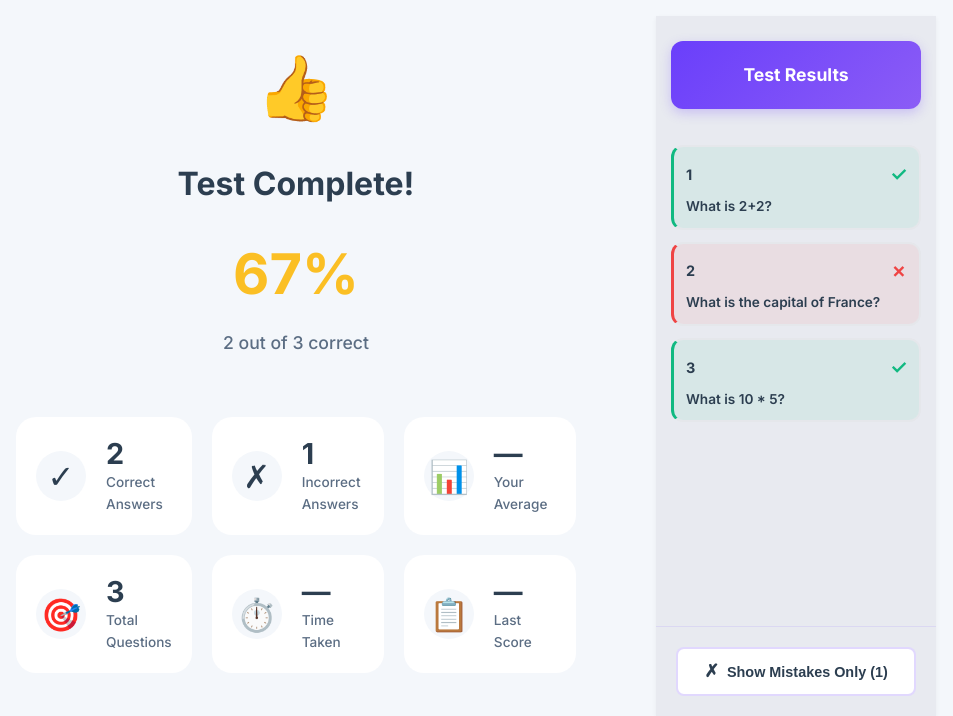
TestResultsPage › shows correct answer for incorrect responses
Click the element with class "timeline-card--incorrect".
click(796, 284)  # box [671,242,921,326]
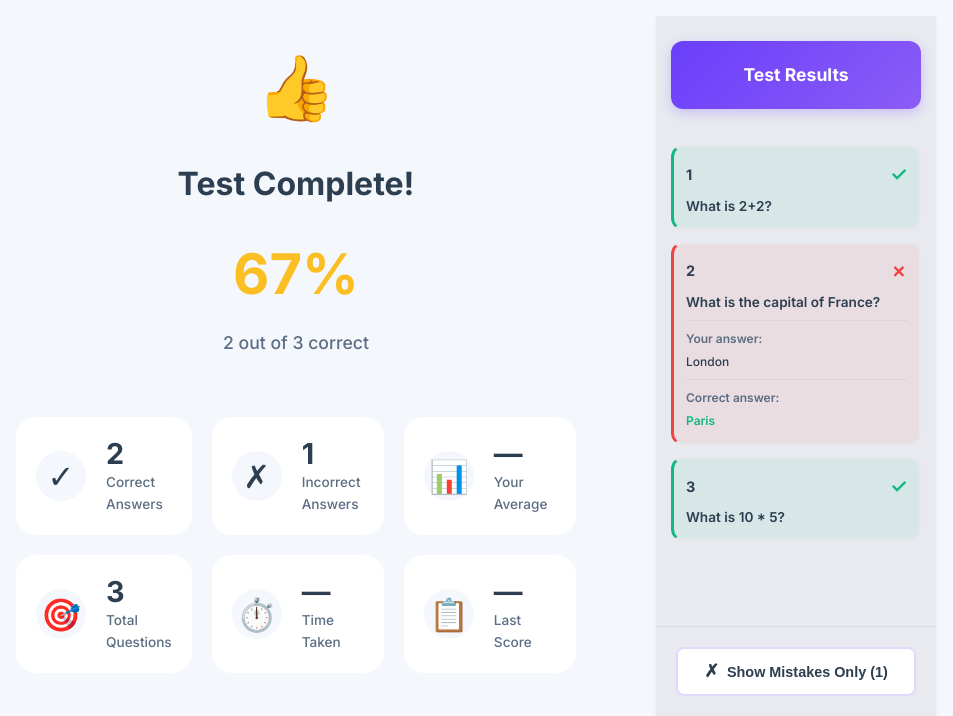
Expected: the text "London" is shown, [686,354,729,369]
Expected: the text "Paris" is shown, [686,414,715,428]
